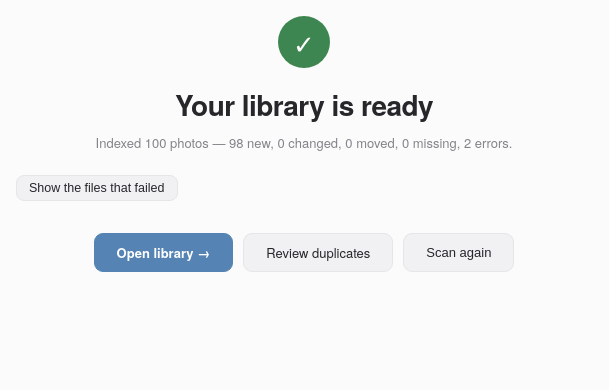
Test: ScanView › a finished scan with failures offers to show them
Click the button with class "errors-toggle" at coordinates (97, 188), box [16, 174, 178, 200]
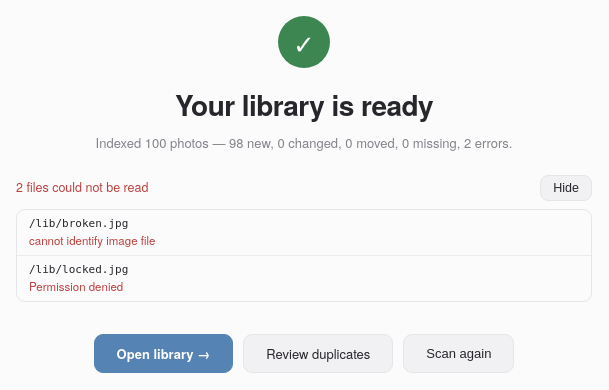
expect the number of list items with class "errors-row" is 2: met, box [17, 210, 591, 256]; [29, 262, 128, 294]
expect the list item with class "errors-row" shows "/lib/broken.jpg": met, box [29, 216, 128, 230]
expect the list item with class "errors-row" shows "cannot identify image file": met, box [29, 232, 156, 248]
